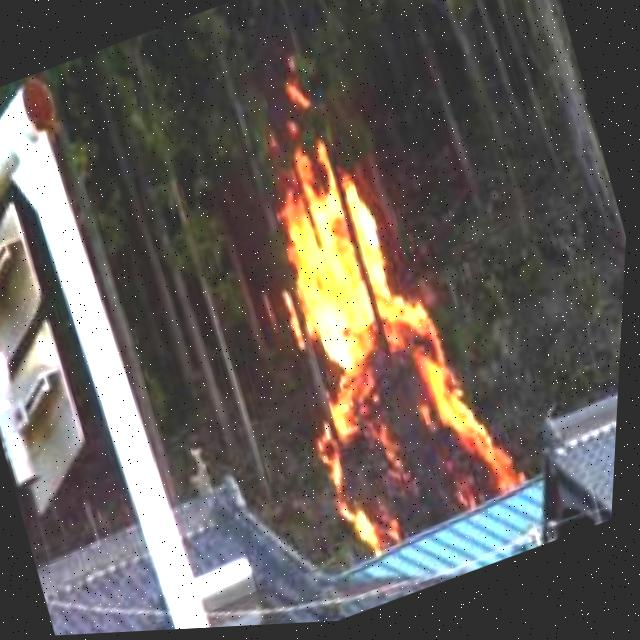Fire: (225, 108, 529, 572)
